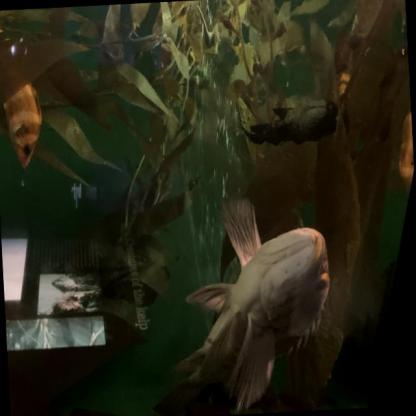fish: (140, 190, 338, 415), (0, 14, 46, 172), (273, 102, 339, 139)
